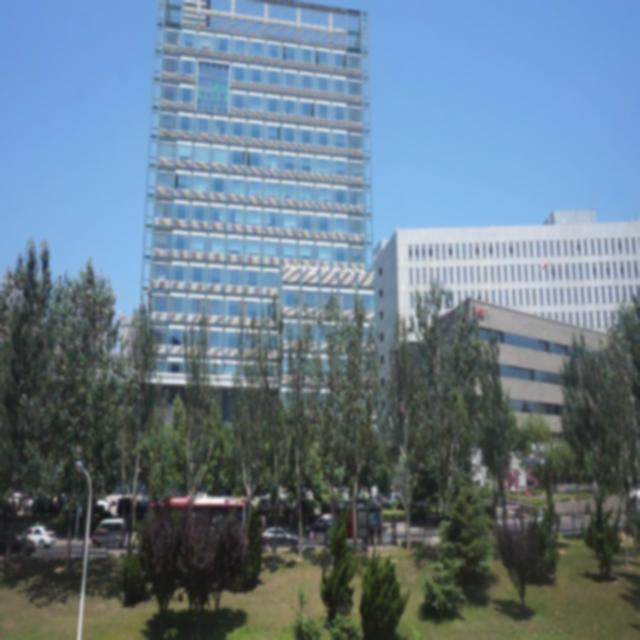UAV: (541, 261, 551, 271)
